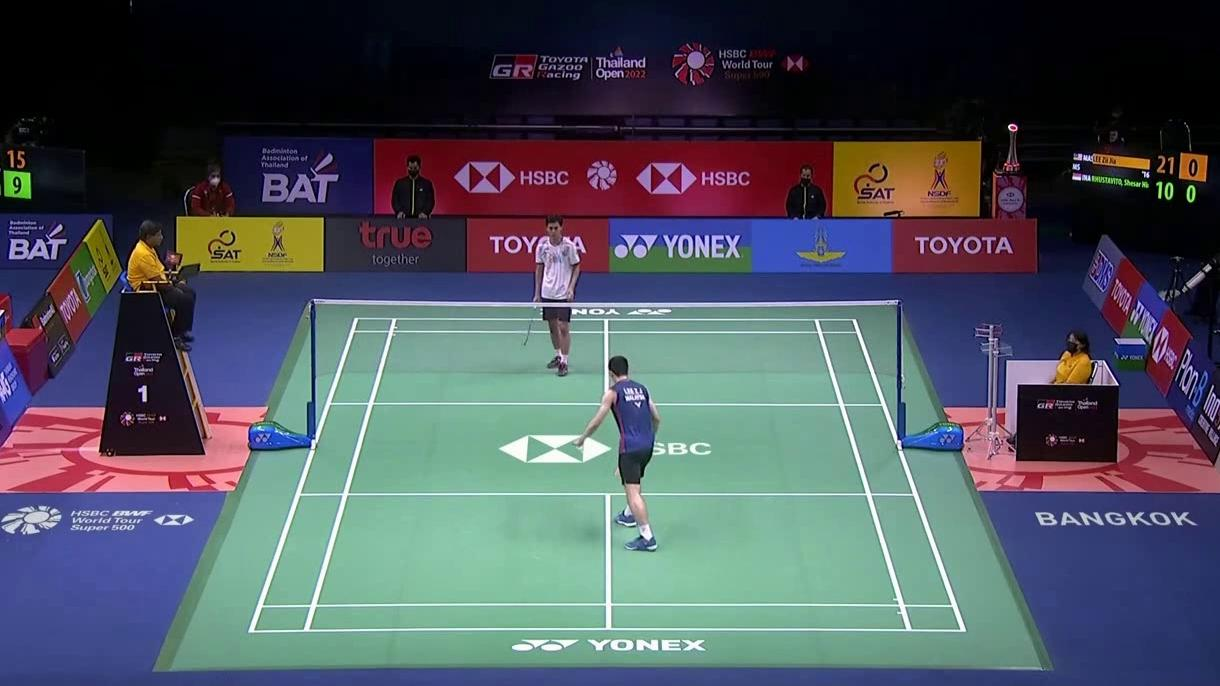racket: (614, 429, 653, 477), (523, 296, 540, 345)
shuttle: (574, 438, 585, 454)
